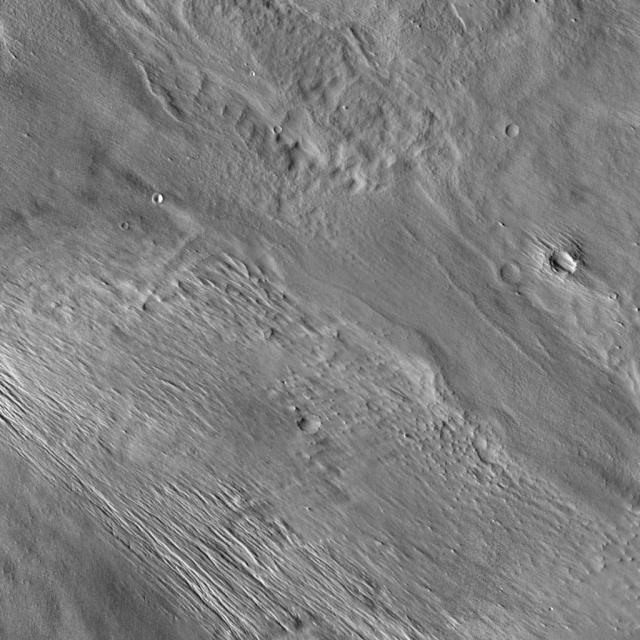crater: (556, 250, 580, 274), (306, 414, 328, 436), (508, 265, 527, 285), (514, 125, 526, 138), (161, 193, 170, 203), (280, 125, 288, 134), (130, 222, 138, 230), (609, 285, 616, 292), (578, 442, 586, 448)
